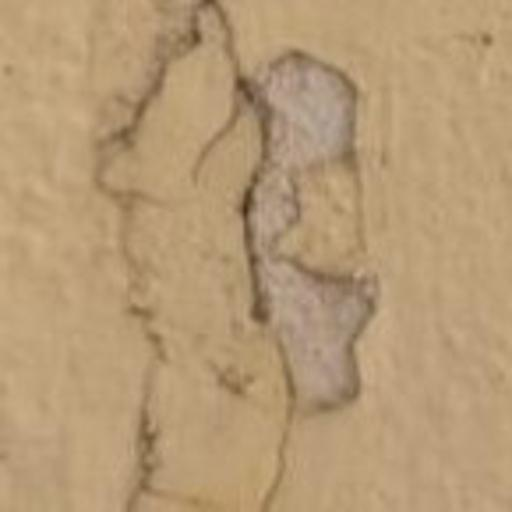peeling: (111, 0, 374, 512)
